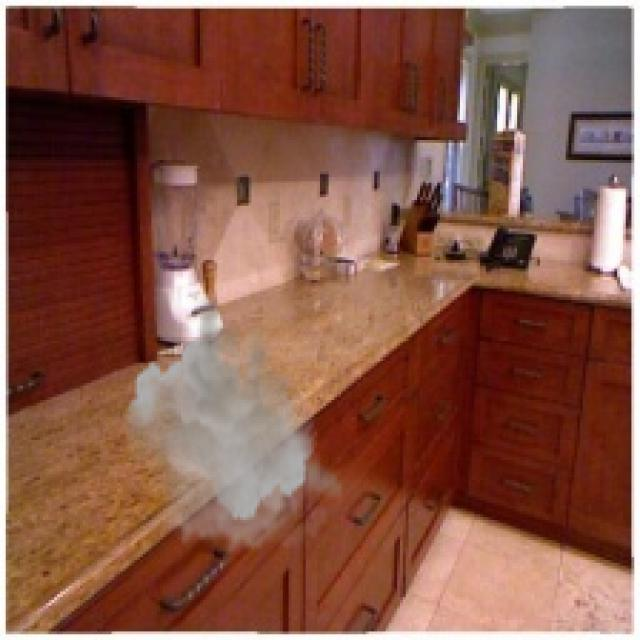smoke: (123, 286, 346, 557)
